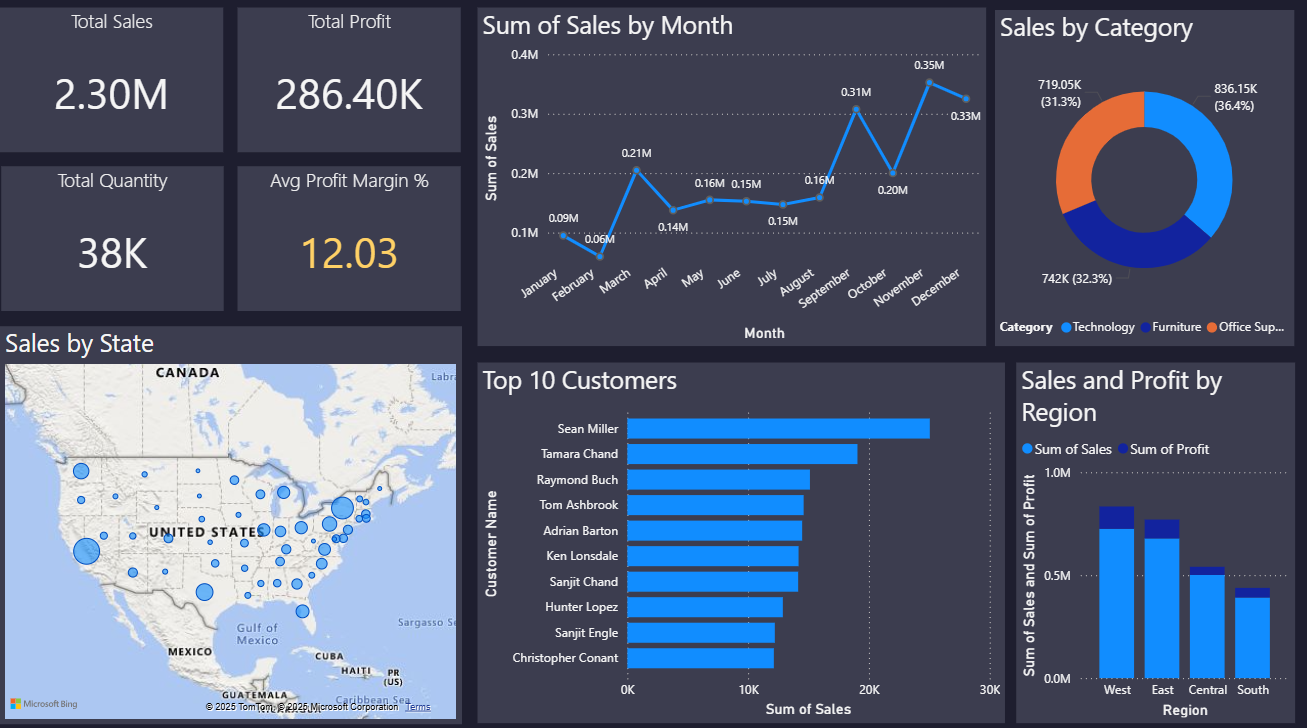

Layout of this report page (visuals, bound fields, positions):
{"tool":"powerbi","page":{"name":"Page 1","canvas":[1280,720],"ordinal":0},"visuals":[{"type":"barChart","title":"Top 10 Customers","fields":{"Category":["Superstore.Customer Name"],"Y":["Superstore.Sales"]},"box":[467.5,360,516.2,352.5],"z":0},{"type":"map","title":"Sales by State","fields":{"Category":["Superstore.State"],"Size":["Superstore.Sales"]},"box":[0,323.8,451.2,388.8],"z":1000},{"type":"donutChart","title":"Sales by Category","fields":{"Category":["Superstore.Category"],"Y":["Superstore.Sales"]},"box":[973.8,15,292.5,328.8],"z":2000},{"type":"columnChart","title":"Sales and Profit by Region","fields":{"Category":["Superstore.Region"],"Y":["Superstore.Sales","Superstore.Profit"]},"box":[993.8,360,272.5,352.5],"z":3000},{"type":"lineChart","fields":{"Category":["Superstore.Order Date.Variation.Date Hierarchy.Month"],"Y":["Superstore.Sales"]},"box":[467.5,12.5,497.5,331.2],"z":4000},{"type":"card","title":"Total Sales","fields":{"Values":["Superstore.Sales"]},"box":[0,12.5,218.8,141.2],"z":5000},{"type":"card","title":"Total Profit","fields":{"Values":["Superstore.Profit"]},"box":[232.5,12.5,218.8,141.2],"z":6000},{"type":"card","title":"Total Quantity","fields":{"Values":["Superstore.Quantity"]},"box":[1.2,167.5,217.5,141.2],"z":7000},{"type":"card","title":"Avg Profit Margin %","fields":{"Values":["Superstore.Profit Margin %"]},"box":[232.5,167.5,218.8,141.2],"z":8000}]}

Visuals, with their boxes in screenshot pixels (x1, y1, x2, y2), scaled from the page's 1280x720 canvas onto the 1307x728 screenshot:
"Top 10 Customers" barChart: left=477, top=364, right=1004, bottom=720
"Sales by State" map: left=0, top=327, right=461, bottom=721
"Sales by Category" donutChart: left=994, top=15, right=1293, bottom=348
"Sales and Profit by Region" columnChart: left=1015, top=364, right=1293, bottom=720
lineChart - Superstore.Order Date.Variation.Date Hierarchy.Month x Superstore.Sales: left=477, top=13, right=985, bottom=348
"Total Sales" card: left=0, top=13, right=223, bottom=155
"Total Profit" card: left=237, top=13, right=461, bottom=155
"Total Quantity" card: left=1, top=169, right=223, bottom=312
"Avg Profit Margin %" card: left=237, top=169, right=461, bottom=312
